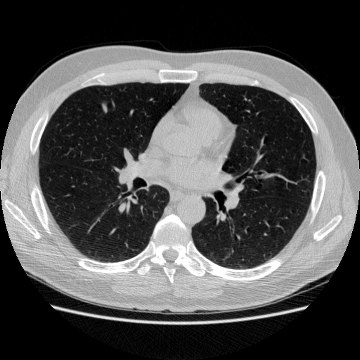nodule: (100, 102, 108, 110)
